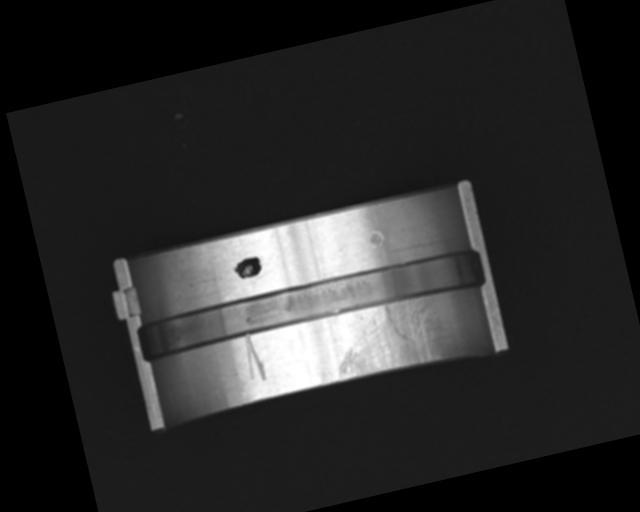blot: (231, 255, 264, 282)
bruise: (366, 228, 386, 251)
gap: (134, 245, 486, 363)
nick: (240, 330, 268, 384)
scratch: (326, 290, 450, 384)
